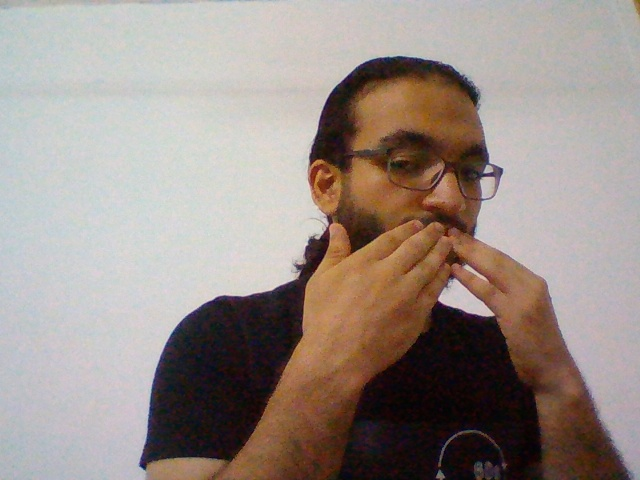Thanks: (286, 218, 607, 404)
